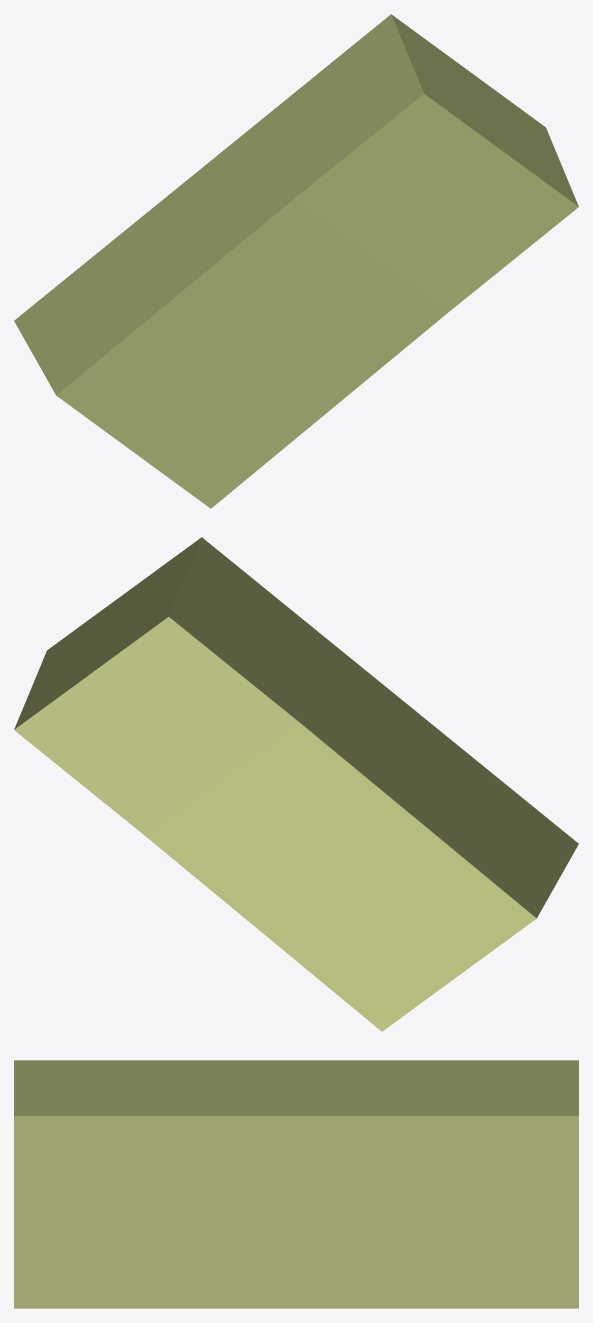
The picture shows the model from 3 angles, top to bottom: view 1: azimuth 30°, elevation 25°; view 2: azimuth 150°, elevation 25°; view 3: azimuth 270°, elevation 25°; orthographic projection. The views are drawn at different scales.
Visible parts, largest first — view 1: 0_1_2_0_3_3_3_1_1_0; view 2: 0_1_2_0_3_3_3_1_1_0; view 3: 0_1_2_0_3_3_3_1_1_0.
Boxes of the visible parts, bbox=[...] form: 0_1_2_0_3_3_3_1_1_0: bbox=[14, 14, 578, 508]; 0_1_2_0_3_3_3_1_1_0: bbox=[14, 537, 578, 1031]; 0_1_2_0_3_3_3_1_1_0: bbox=[14, 1060, 578, 1308].
Size of the model in its own units: 13.77 by 9.61 by 9.
